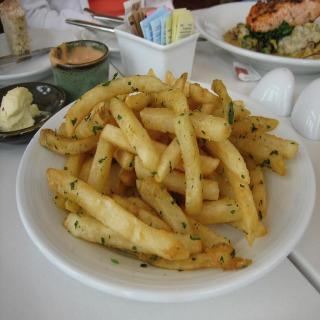French fries: (44, 59, 270, 280)
Ice cream: (1, 79, 38, 129)
